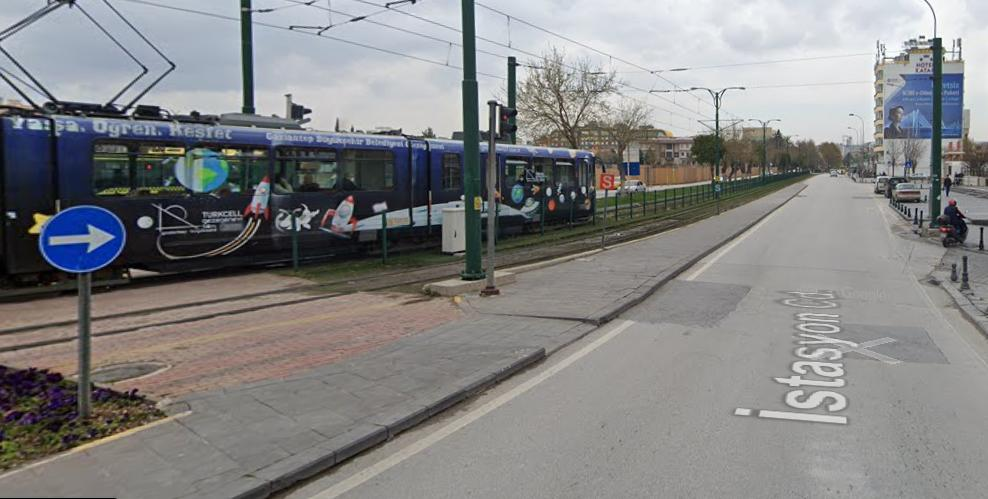turnright: (38, 204, 126, 271)
